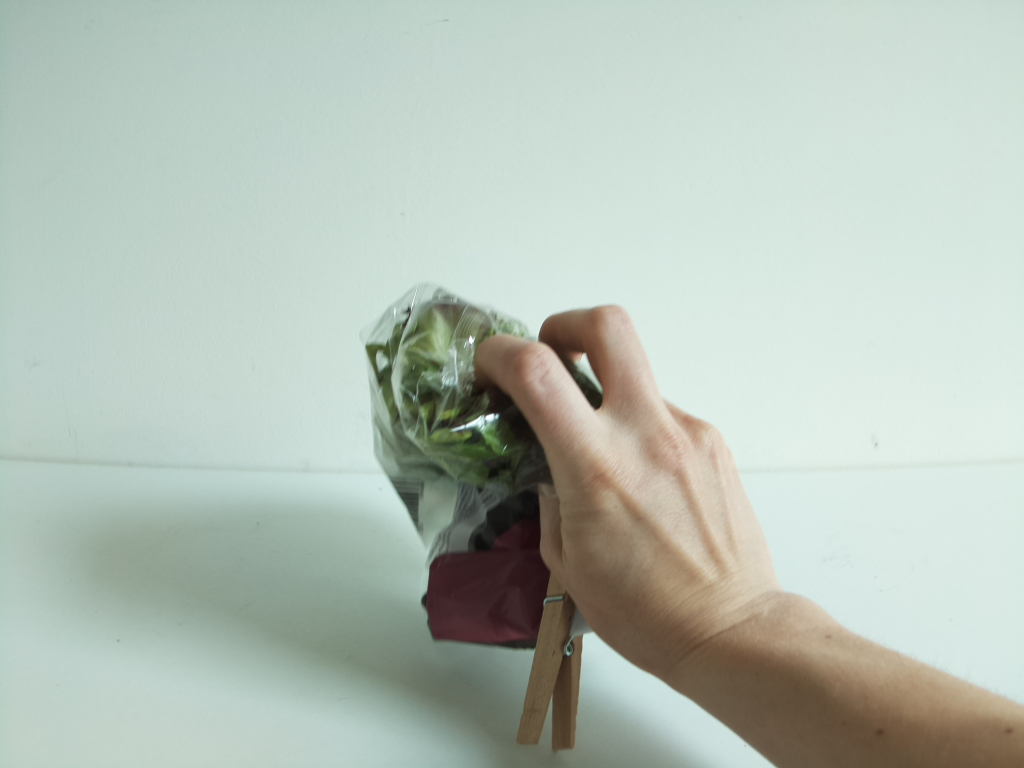salad: (366, 280, 598, 638)
